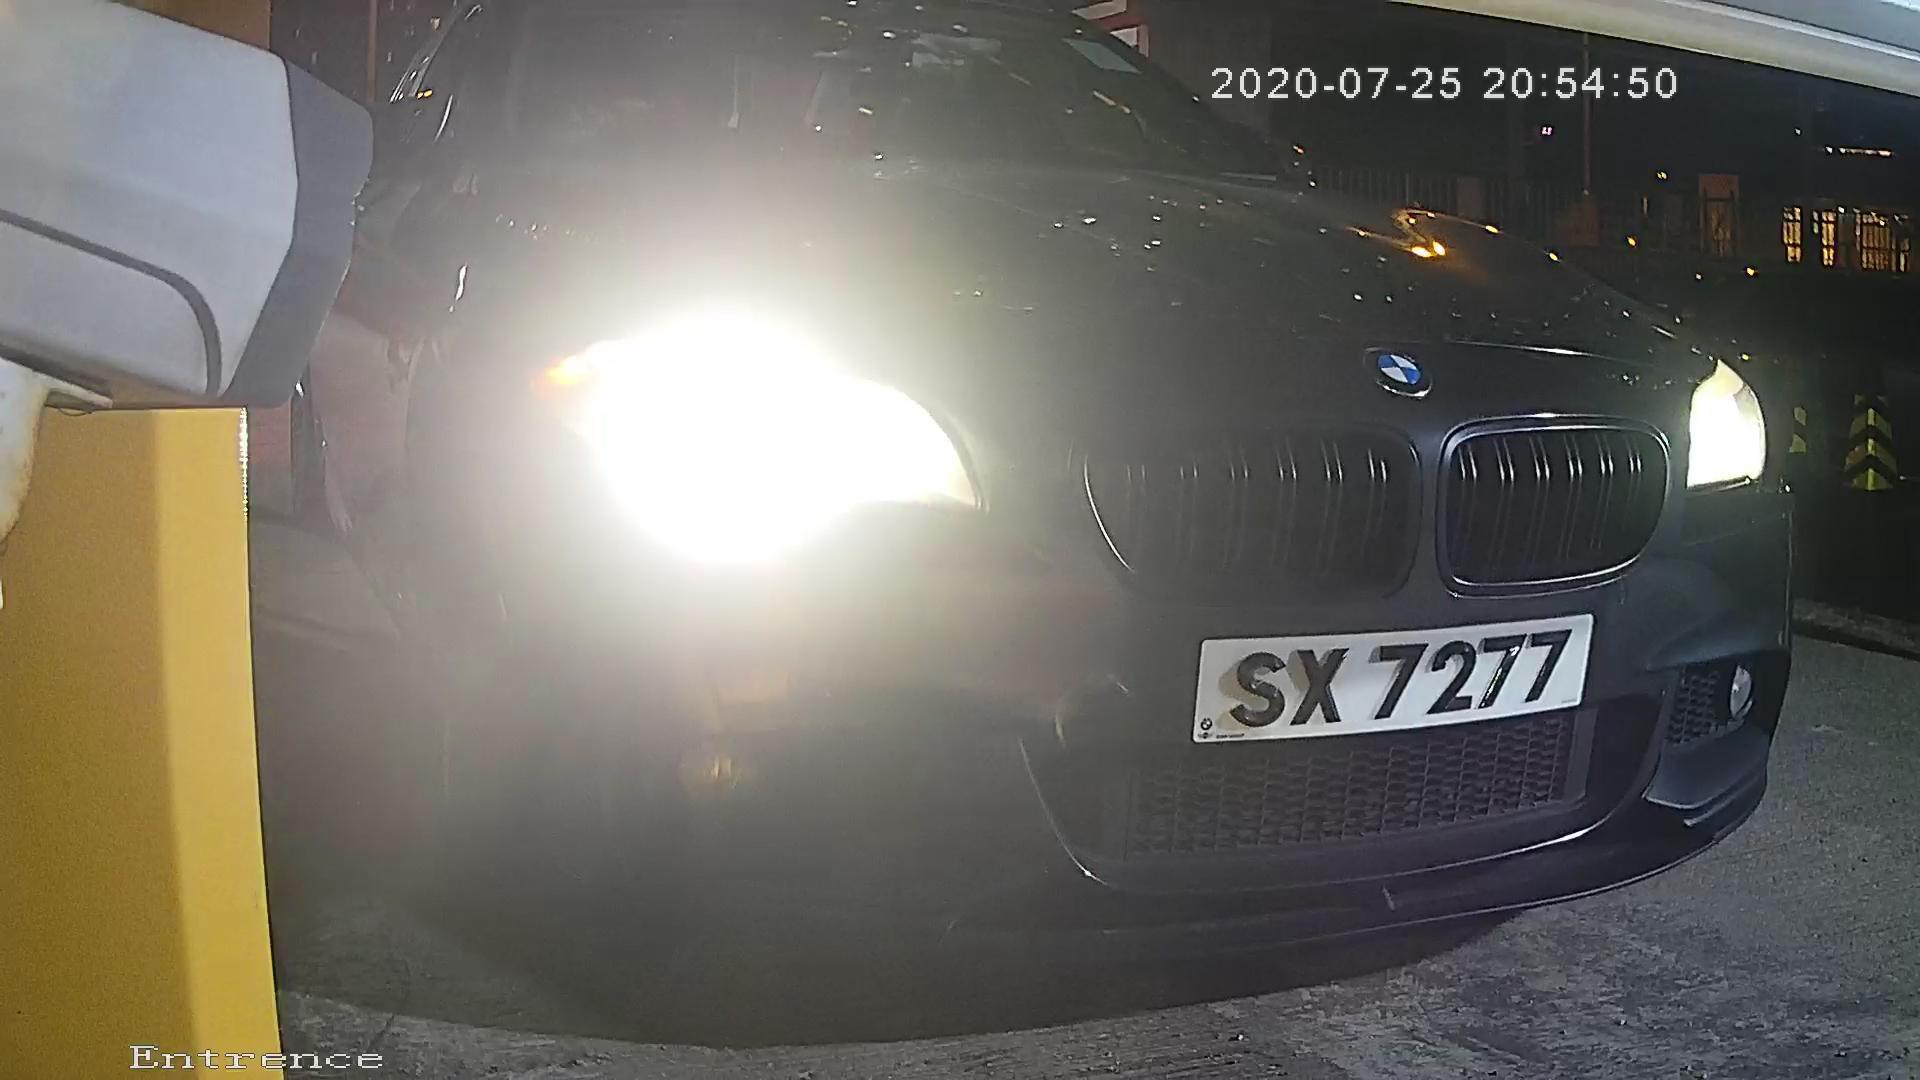privatecar: (255, 3, 1820, 1007)
